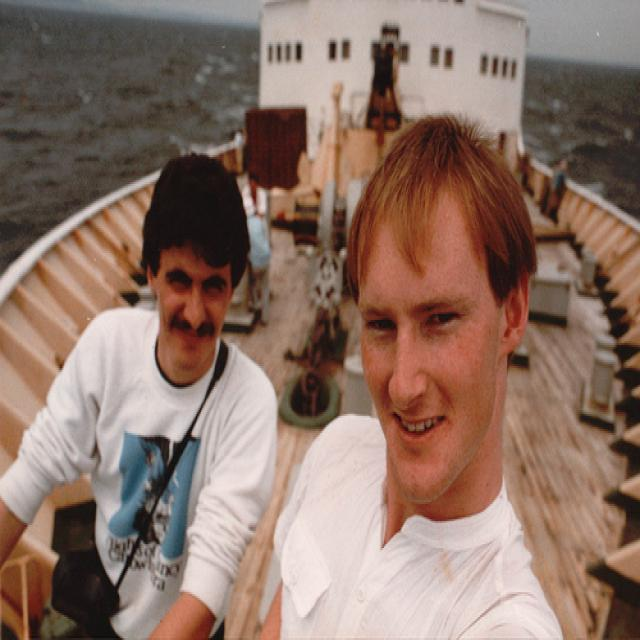boat: (1, 1, 640, 639)
person: (256, 114, 564, 639), (1, 152, 279, 639)
